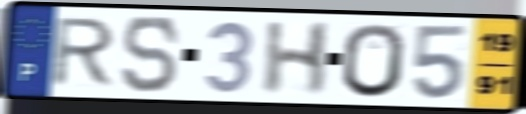3: (202, 18, 257, 96)
5: (412, 23, 471, 102)
H: (259, 20, 335, 97)
O: (341, 21, 408, 100)
R: (47, 16, 120, 89)
S: (121, 13, 182, 95)
